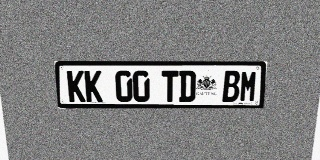0: (132, 70, 150, 102), (115, 70, 132, 102)
B: (222, 70, 240, 102)
D: (179, 70, 196, 102)
K: (84, 70, 103, 102), (67, 70, 85, 102)
M: (239, 70, 258, 102)
T: (162, 70, 178, 102)
